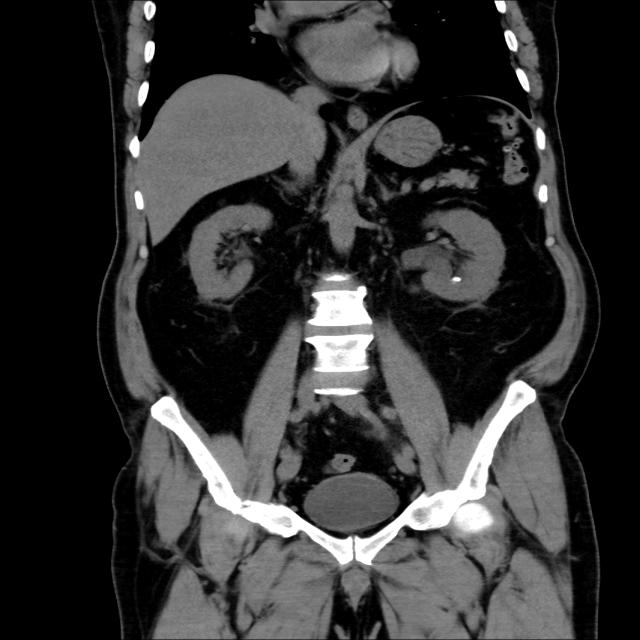kidneystone: (452, 276, 462, 282)
